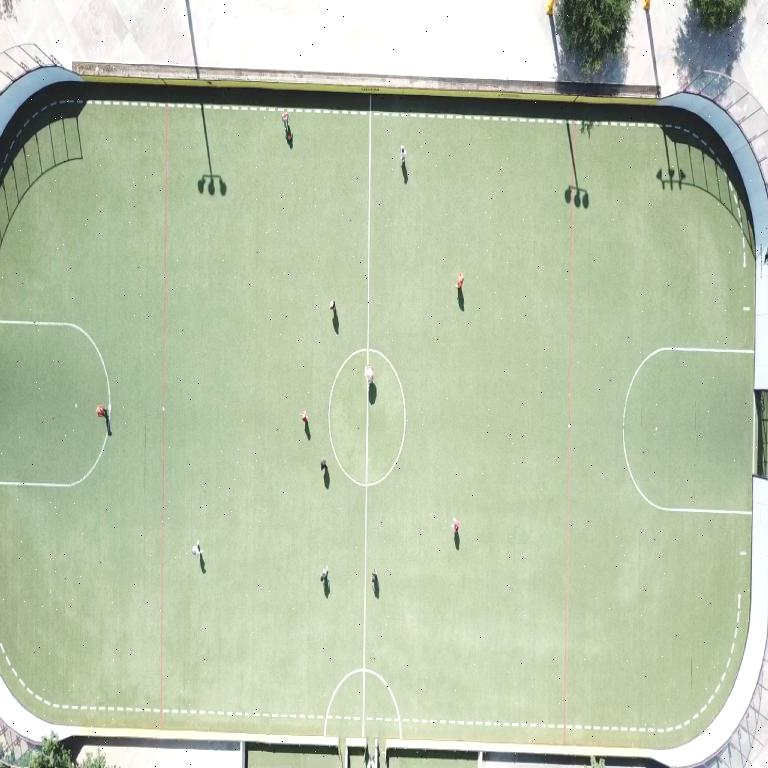AC: (623, 347, 753, 515), (0, 320, 111, 412)
B: (287, 134, 291, 141)
MC: (362, 392, 369, 737)
P: (282, 111, 292, 141), (365, 363, 374, 385), (96, 405, 109, 419), (192, 540, 202, 556), (320, 566, 328, 584), (371, 569, 378, 588), (456, 272, 463, 291), (452, 519, 459, 535), (401, 146, 406, 165), (300, 411, 307, 424), (329, 300, 336, 312), (321, 460, 327, 472)
